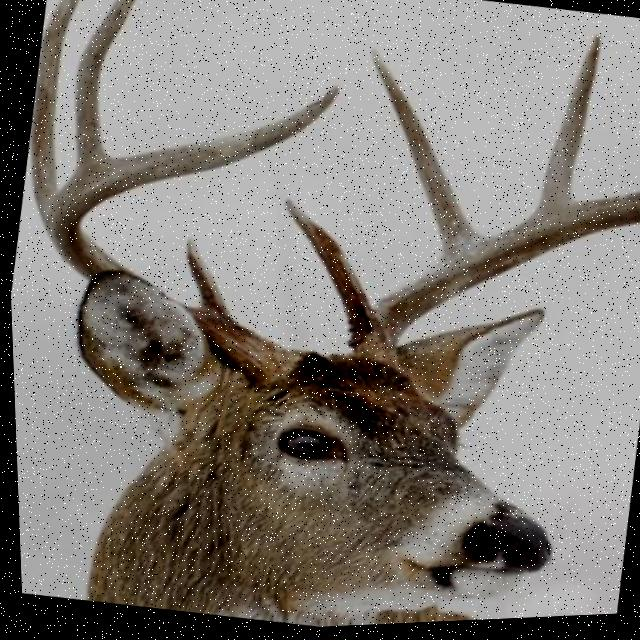L-F: (40, 87, 340, 391)
L-G1: (183, 240, 229, 321)
L-G2: (29, 0, 81, 221)
L-G3: (73, 0, 138, 174)
R-F: (350, 198, 640, 376)
R-G1: (282, 201, 372, 351)
R-G2: (370, 51, 489, 267)
R-G3: (528, 39, 602, 222)
